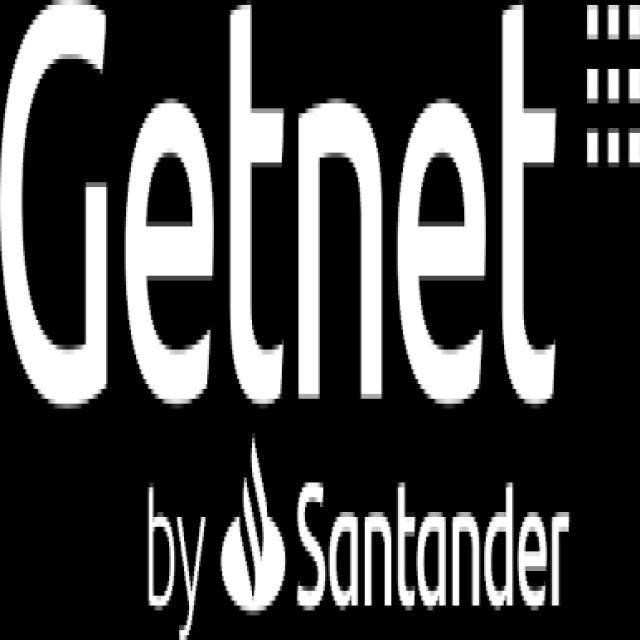getnet: (0, 1, 640, 408)
santander: (220, 431, 288, 617)
